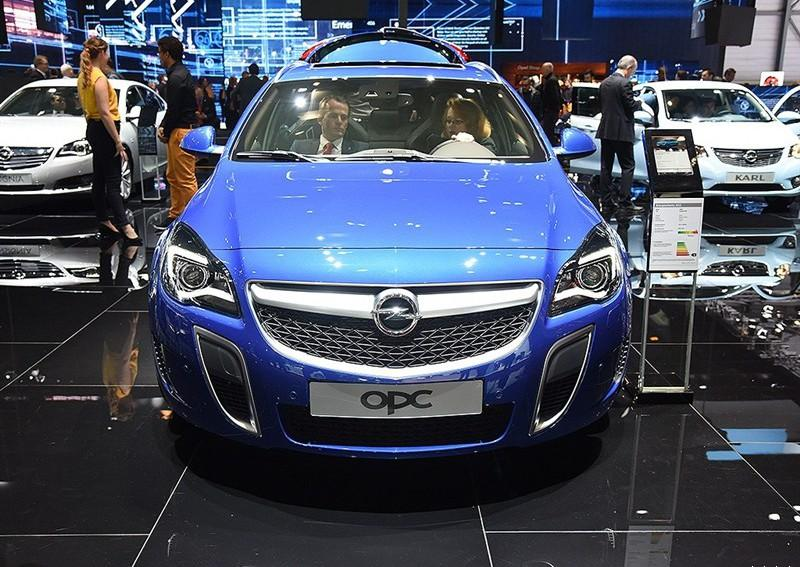Wagon: (145, 25, 635, 462)
